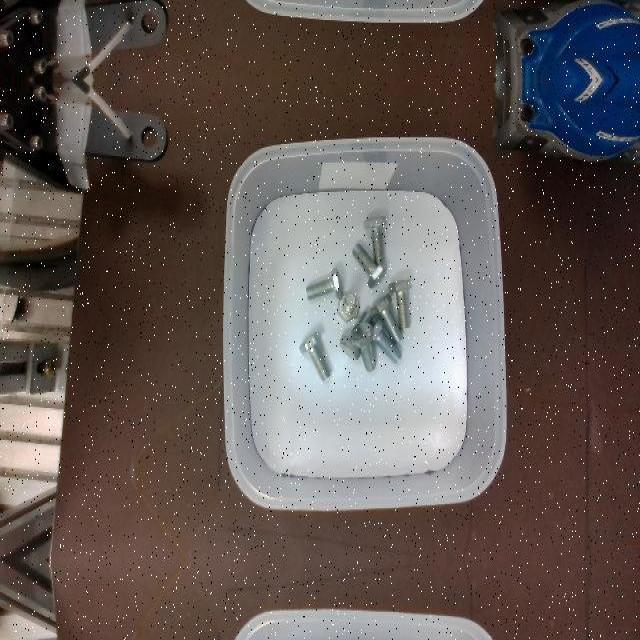screw: (370, 293, 403, 343), (352, 243, 387, 289), (299, 331, 331, 381), (350, 321, 376, 371), (388, 279, 413, 327), (305, 267, 342, 299), (364, 215, 387, 265), (337, 291, 359, 321)
